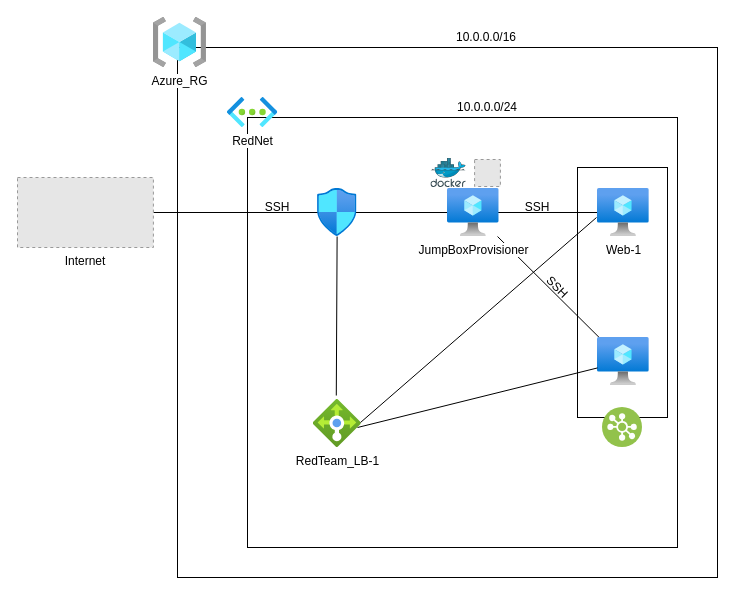
Image size: 743x603. Some labels were removed from this diagram. Grey dashed boxes stand in for pictures. Here are the shapes that lost their labels. From the top down, the box of each, then its label:
(317, 188, 356, 236): RedTeam_NSG_2
(597, 337, 649, 385): Web-2
(602, 407, 642, 447): RedTeam_LB_Pool
